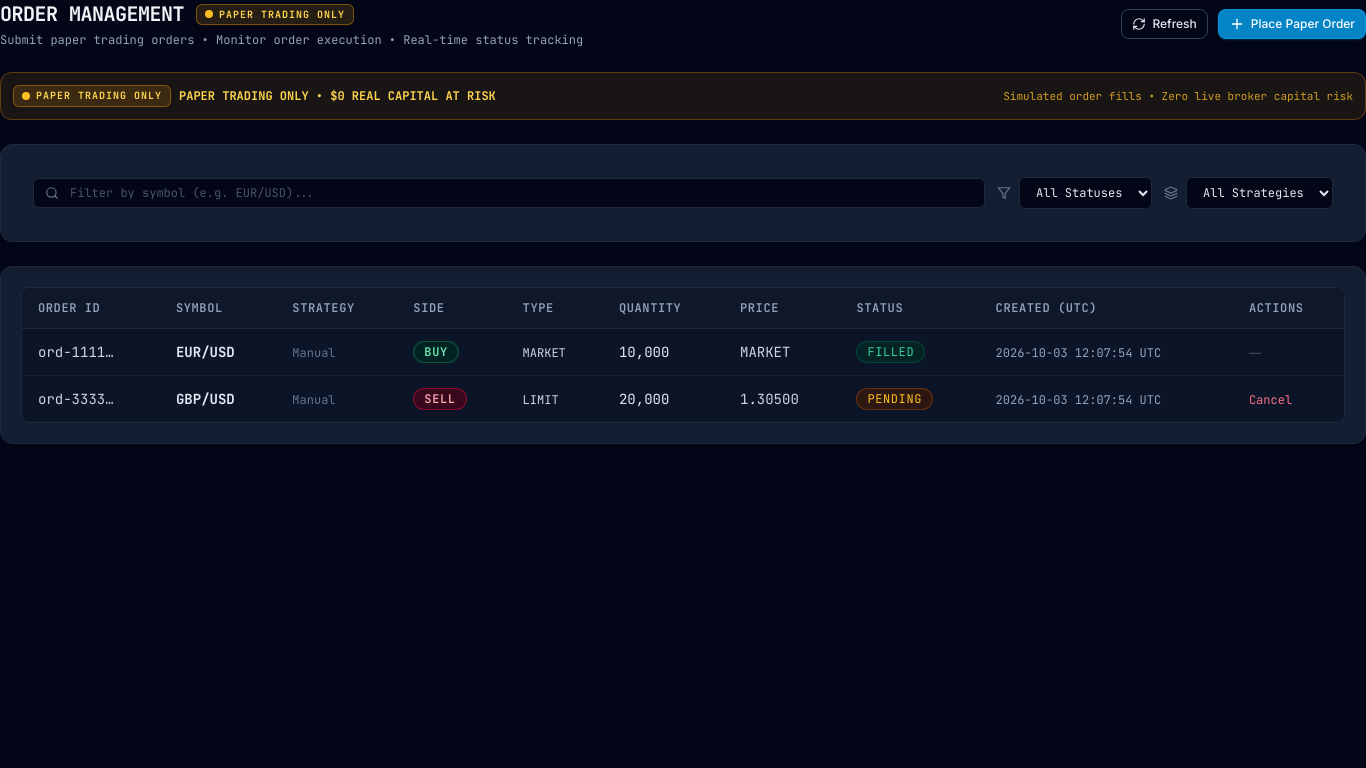
it: OrdersPage › cancels a pending order after confirmation
The width and height of the screenshot is (1366, 768).
Click the button "Cancel".
click(1270, 400)  # box 1249,392 -> 1292,408
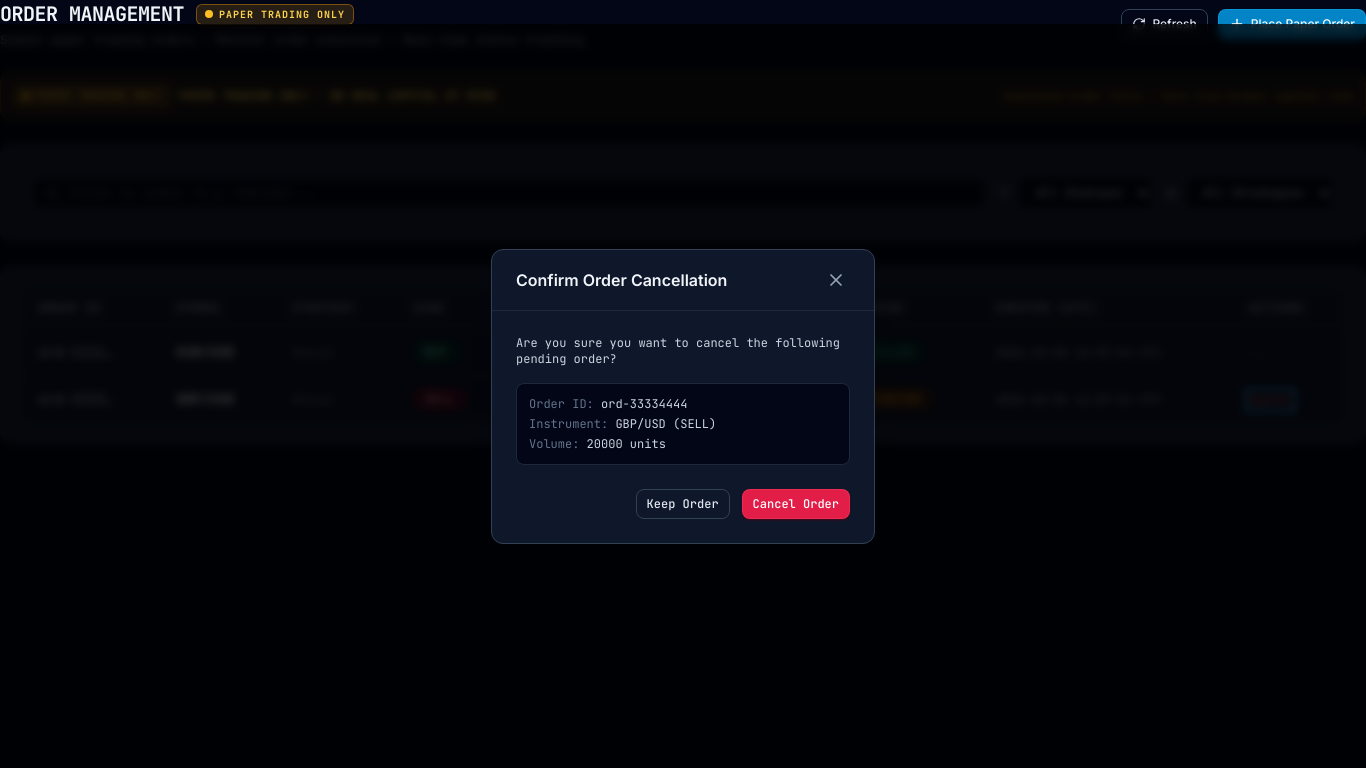
Expected: the heading "Confirm Order Cancellation" is shown, 516,268 -> 727,292
Click the button "Cancel Order".
click(796, 504)  # box 742,488 -> 850,518
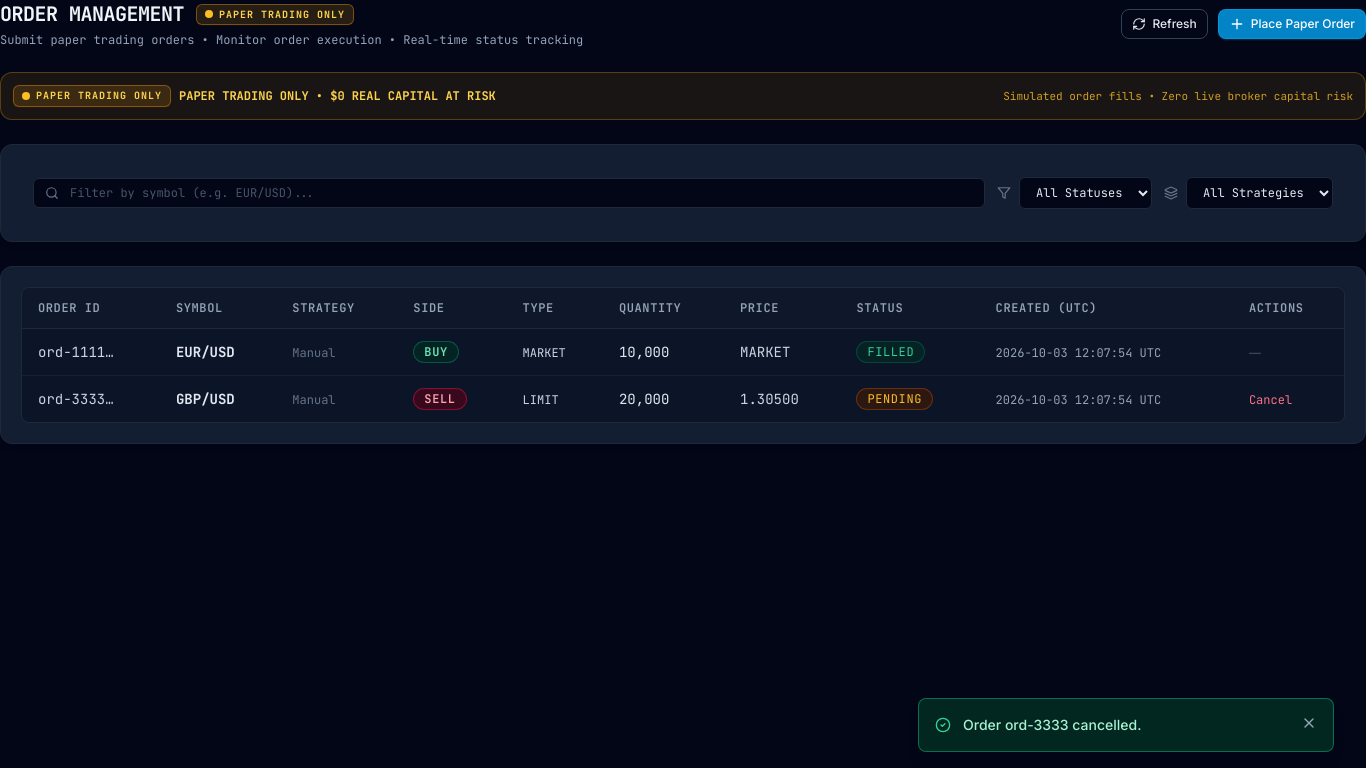
Expected: the text "Order ord-3333 cancelled." is shown, 963,716 -> 1141,733
